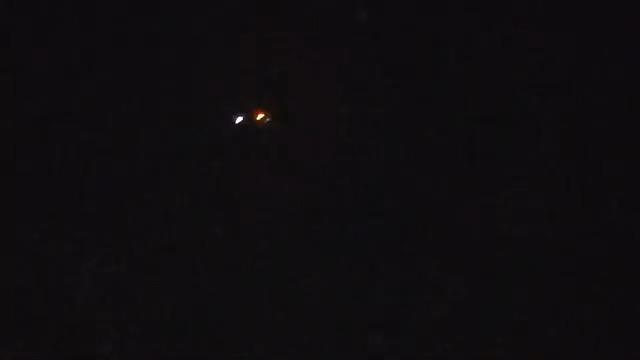Plane: (214, 105, 292, 133)
